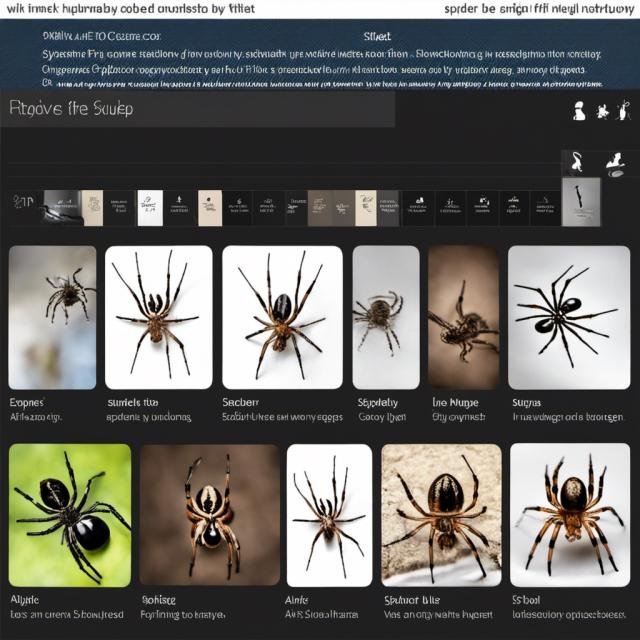spider: (231, 254, 335, 393), (515, 458, 629, 584), (14, 452, 124, 580), (386, 466, 500, 586), (166, 451, 256, 592), (109, 255, 201, 388), (510, 262, 613, 370), (290, 458, 367, 592), (353, 280, 411, 365), (39, 260, 90, 321)
